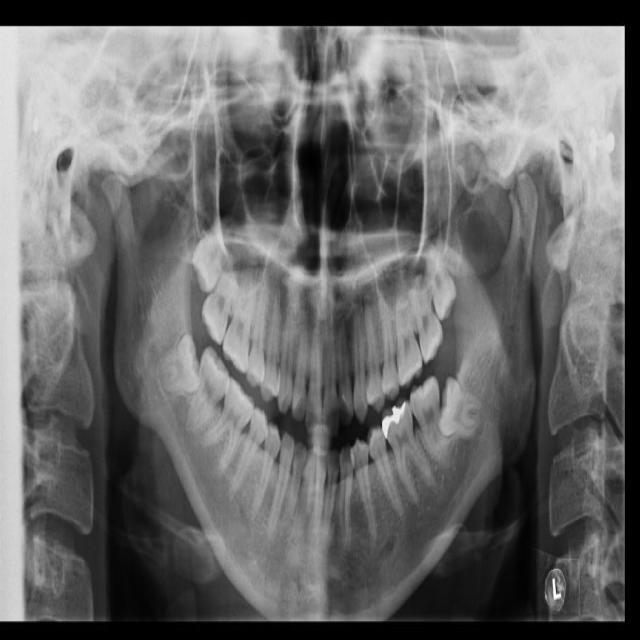3M ESPE Implant: (182, 210, 242, 295)
52: (371, 394, 426, 448)
73: (558, 552, 564, 558)
BioHorizons Implant: (404, 274, 449, 365)
BioLife Implant: (418, 240, 463, 322)
Biomet 3i Implant: (436, 376, 485, 442)
Blue Sky Bio Implant: (402, 375, 459, 463)
Caries: (194, 238, 246, 347)
Implant: (184, 346, 237, 437)
Keystone Dental Implant: (153, 332, 205, 398)
